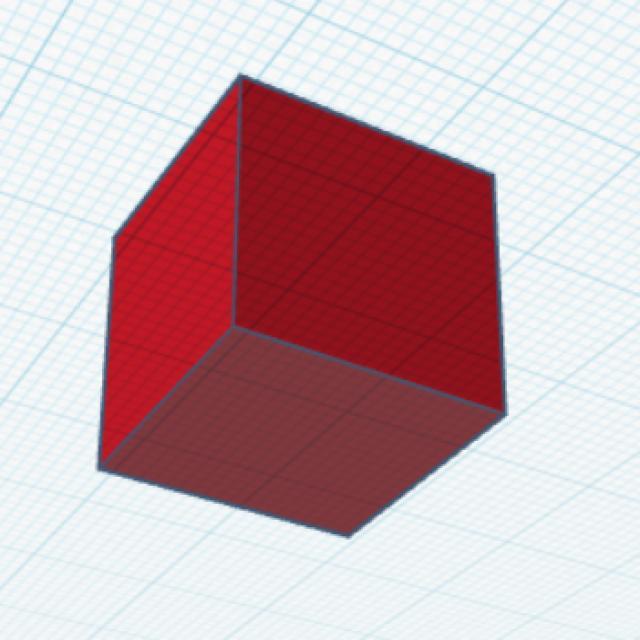cube: (92, 70, 512, 542)
